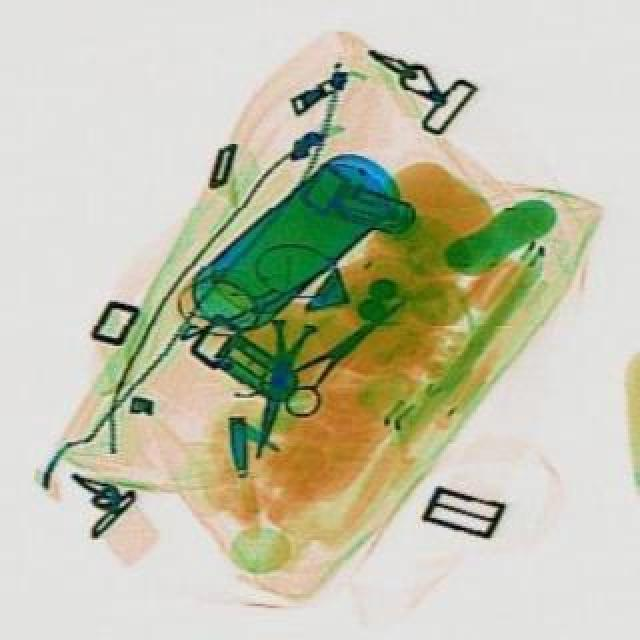pliers: (250, 274, 426, 426)
